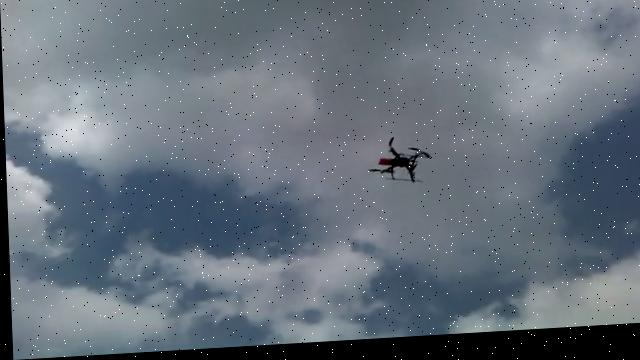drone: (363, 137, 428, 190)
